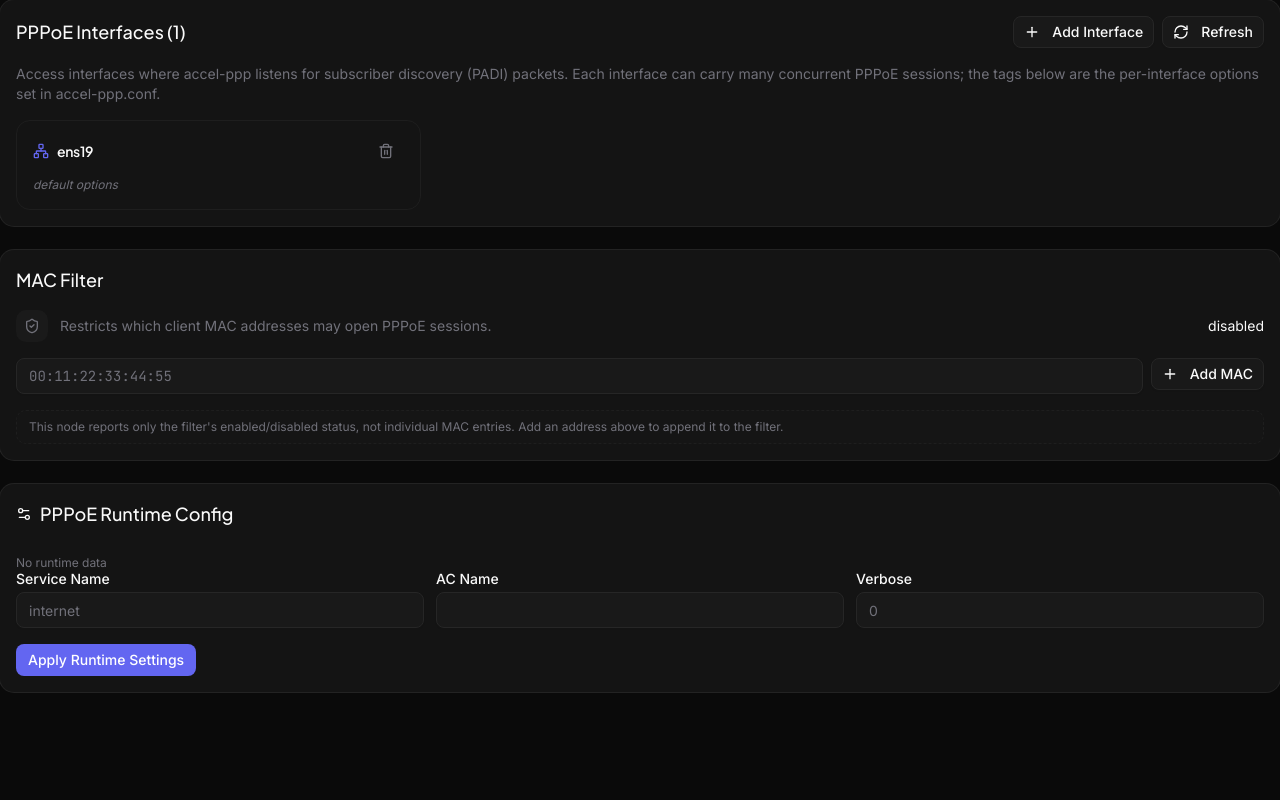
it: PppoePage › adds an interface (name + optional options) and closes the dialog
Click the button "Add Interface" at (1084, 32), box top-left (1013, 16), bottom-right (1154, 48)
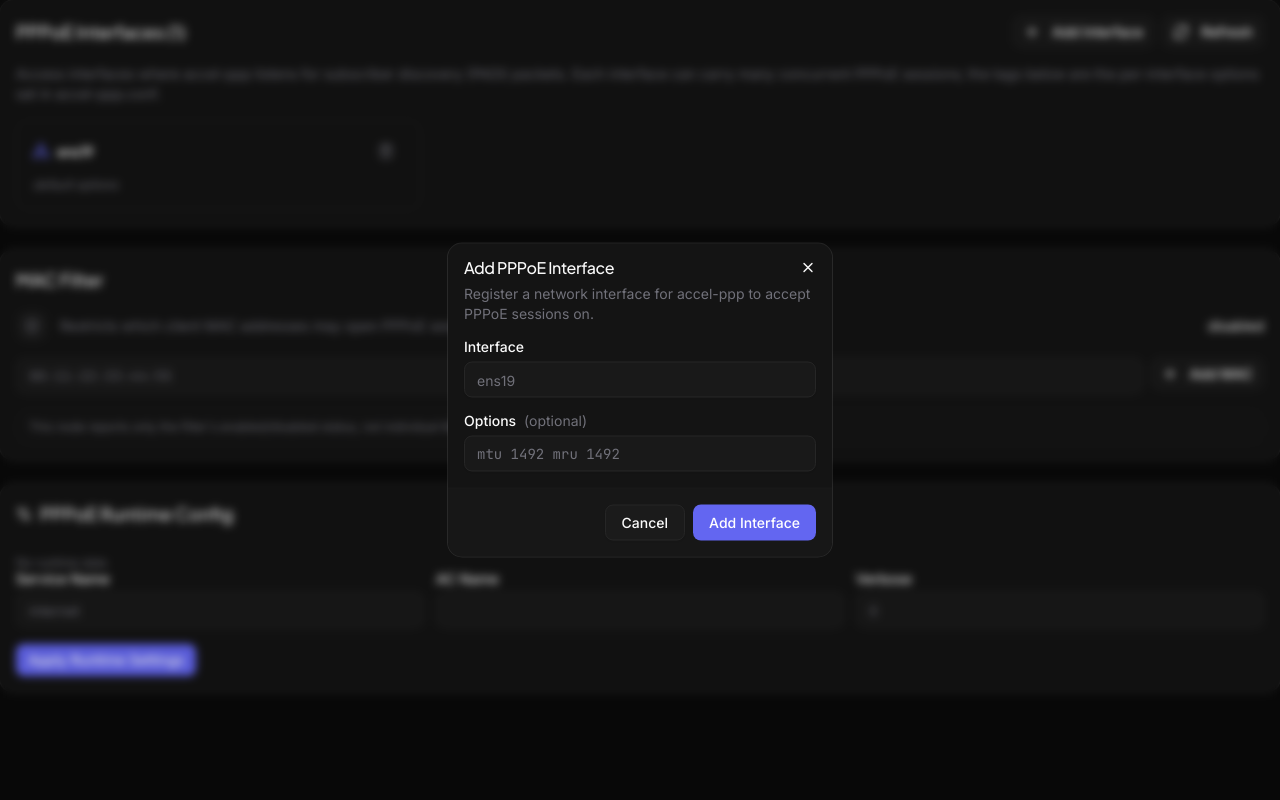
Type "ens21" into the field with placeholder "ens19" at (640, 380), box top-left (464, 362), bottom-right (816, 398)
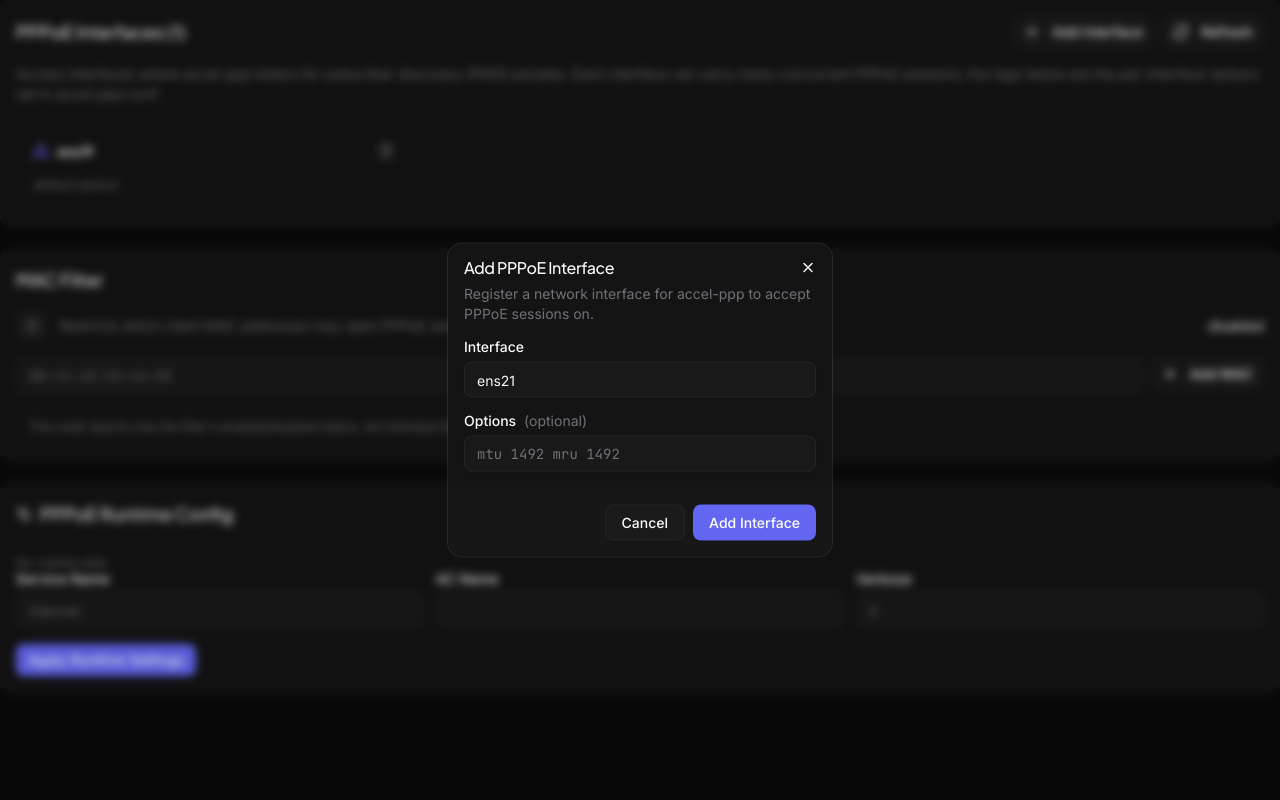
Type "mtu 1400" into the field with placeholder "mtu 1492 mru 1492" at (640, 454), box top-left (464, 436), bottom-right (816, 472)
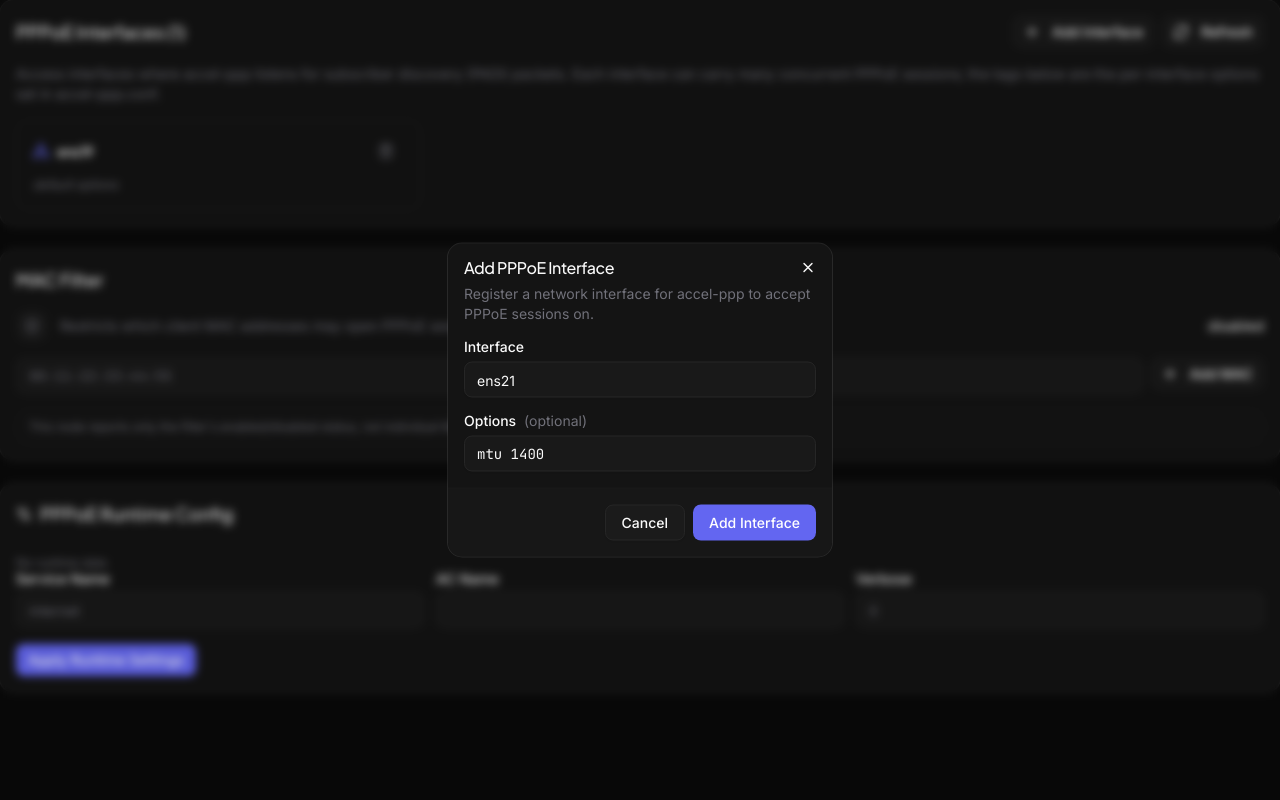
Submit the text "Add Interface", box top-left (464, 340), bottom-right (816, 540)
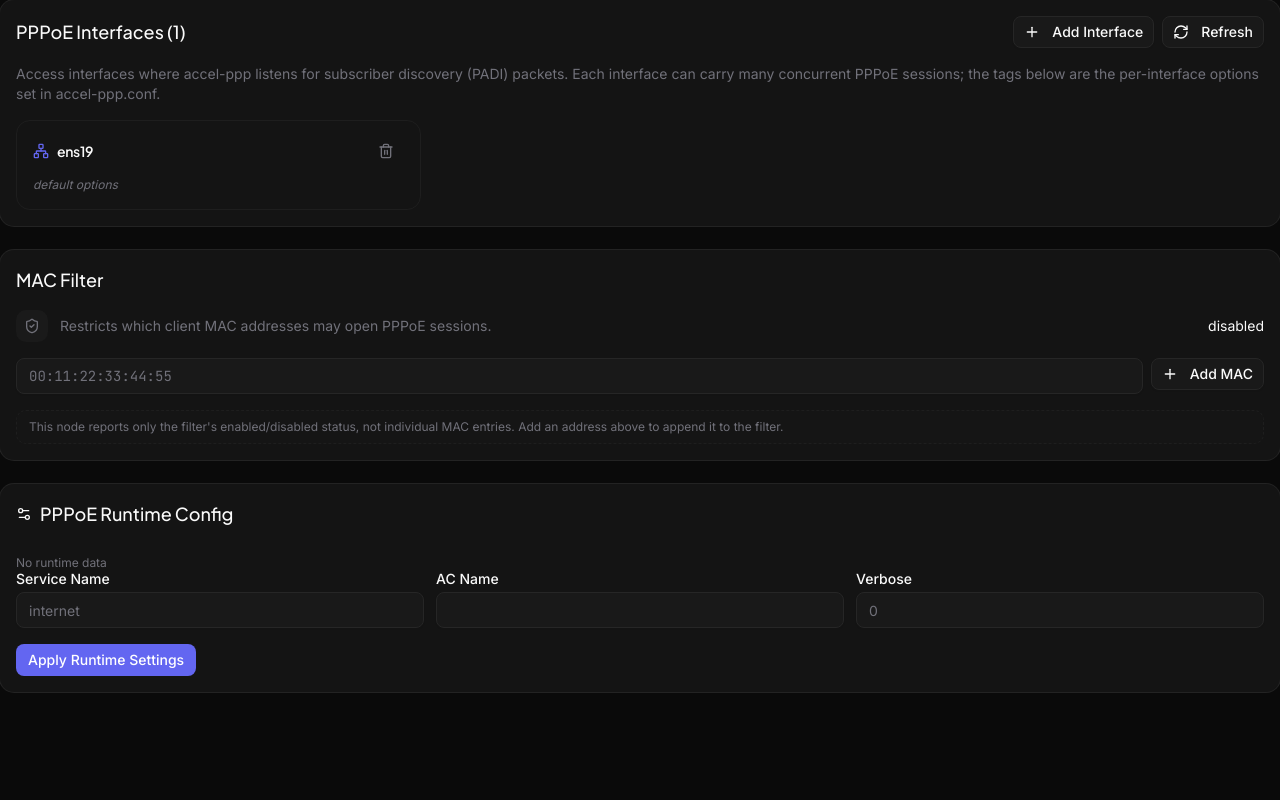
Now the heading "Add PPPoE Interface" is gone
